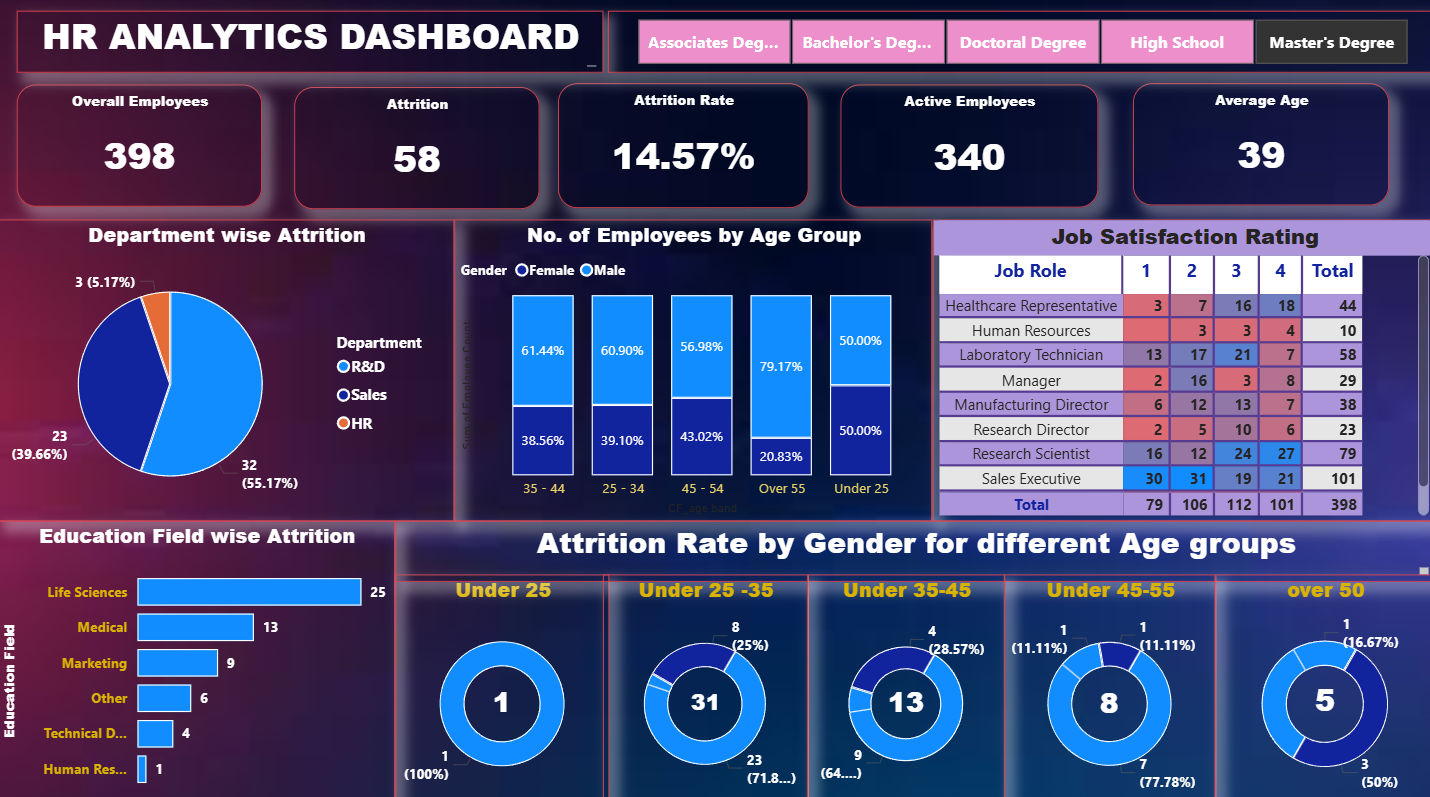

This screenshot's page, from the dashboard's own definition file:
{"tool":"powerbi","page":{"name":"Page 1","canvas":[1280,720],"ordinal":0},"visuals":[{"type":"card","title":"Overall Employees","fields":{"Values":["Sum(Table_1.Employee Count)"]},"box":[16.9,78.4,218.4,108.6],"z":0},{"type":"card","title":"Attrition","fields":{"Values":["Sum(Table_1.Attrition Count)"]},"box":[264.2,79.6,218.4,108.6],"z":1000},{"type":"card","title":"Attrition Rate ","fields":{"Values":["Table_1.Attrition Rate"]},"box":[498.3,77.2,223.2,111],"z":2000},{"type":"card","title":"Active Employees","fields":{"Values":["Table_1.Active Employees"]},"box":[750.4,78.4,229.2,109.8],"z":3000},{"type":"card","title":"Average Age","fields":{"Values":["Avg(Table_1.Age)"]},"box":[1011,77.2,228,108.6],"z":4000},{"type":"pieChart","title":"Department wise Attrition","fields":{"Category":["Table_1.Department"],"Y":["Sum(Table_1.Attrition Count)"]},"box":[0,197.9,406.6,269],"z":5000},{"type":"hundredPercentStackedColumnChart","title":"No. of Employees by Age Group","fields":{"Category":["Table_1.CF_age band"],"Y":["Sum(Table_1.Employee Count)"],"Series":["Table_1.Gender"]},"box":[406.6,197.9,425.9,269],"z":6000},{"type":"pivotTable","title":"Job Satisfaction Rating","fields":{"Rows":["Table_1.Job Role"],"Columns":["Table_1.Job Satisfaction"],"Values":["Sum(Table_1.Employee Count)"]},"box":[832.4,197.9,447.6,269],"z":7000},{"type":"barChart","title":"Education Field wise Attrition","fields":{"Category":["Table_1.Education Field"],"Y":["Sum(Table_1.Attrition Count)"]},"box":[0,466.9,353.5,253.4],"z":8000},{"type":"donutChart","title":"Under 25","fields":{"Category":["Table_1.Gender"],"Y":["Sum(Table_1.Attrition Count)"],"Series":["Table_1.CF_age band"]},"box":[353.5,513.9,190.6,206.3],"z":9000},{"type":"textbox","title":"Attrition Rate by Gender for different Age groups","box":[353.5,466.9,926.5,54.3],"z":10000},{"type":"donutChart","title":"Under 35-45","fields":{"Category":["Table_1.Gender"],"Y":["Sum(Table_1.Attrition Count)"],"Series":["Table_1.CF_age band"]},"box":[721.5,513.9,174.9,206.3],"z":11000},{"type":"donutChart","title":"Under 25 -35","fields":{"Category":["Table_1.Gender"],"Y":["Sum(Table_1.Attrition Count)"],"Series":["Table_1.CF_age band"]},"box":[539.3,513.9,182.2,206.3],"z":12000},{"type":"donutChart","title":"over 50","fields":{"Category":["Table_1.Gender"],"Y":["Sum(Table_1.Attrition Count)"],"Series":["Table_1.CF_age band"]},"box":[1084.6,513.9,195.4,206.3],"z":13000},{"type":"donutChart","title":"Under 45-55","fields":{"Category":["Table_1.Gender"],"Y":["Sum(Table_1.Attrition Count)"],"Series":["Table_1.CF_age band"]},"box":[896.4,513.9,188.2,206.3],"z":14000},{"type":"card","fields":{"Values":["Sum(Table_1.Attrition Count)"]},"box":[417.4,599.6,62.7,57.9],"z":15000},{"type":"card","fields":{"Values":["Sum(Table_1.Attrition Count)"]},"box":[596,599.6,70,59.1],"z":16000},{"type":"card","fields":{"Values":["Sum(Table_1.Attrition Count)"]},"box":[951.9,593.6,76,72.4],"z":17000},{"type":"card","fields":{"Values":["Sum(Table_1.Attrition Count)"]},"box":[1149.7,593.6,63.9,67.6],"z":18000},{"type":"card","fields":{"Values":["Sum(Table_1.Attrition Count)"]},"box":[764.9,610.5,88.1,37.4],"z":19000},{"type":"textbox","title":"HR ANALYTICS DASHBOARD","box":[16.9,12.1,522.4,55.5],"z":20000},{"type":"slicer","fields":{"Values":["Table_1.Education"]},"box":[542.9,12.1,737.1,55.5],"z":21000}]}

Visuals, with their boxes in screenshot pixels (x1, y1, x2, y2), scaled from the page's 1280x720 canvas onto the 1430x797 screenshot:
"Overall Employees" card: Rect(19, 87, 263, 207)
"Attrition" card: Rect(295, 88, 539, 208)
"Attrition Rate " card: Rect(557, 85, 806, 208)
"Active Employees" card: Rect(838, 87, 1094, 208)
"Average Age" card: Rect(1129, 85, 1384, 206)
"Department wise Attrition" pieChart: Rect(0, 219, 454, 517)
"No. of Employees by Age Group" hundredPercentStackedColumnChart: Rect(454, 219, 930, 517)
"Job Satisfaction Rating" pivotTable: Rect(930, 219, 1429, 517)
"Education Field wise Attrition" barChart: Rect(0, 517, 395, 796)
"Under 25" donutChart: Rect(395, 569, 608, 796)
"Attrition Rate by Gender for different Age groups" textbox: Rect(395, 517, 1429, 577)
"Under 35-45" donutChart: Rect(806, 569, 1001, 796)
"Under 25 -35" donutChart: Rect(602, 569, 806, 796)
"over 50" donutChart: Rect(1212, 569, 1429, 796)
"Under 45-55" donutChart: Rect(1001, 569, 1212, 796)
card - Sum(Table_1.Attrition Count): Rect(466, 664, 536, 728)
card - Sum(Table_1.Attrition Count): Rect(666, 664, 744, 729)
card - Sum(Table_1.Attrition Count): Rect(1063, 657, 1148, 737)
card - Sum(Table_1.Attrition Count): Rect(1284, 657, 1356, 732)
card - Sum(Table_1.Attrition Count): Rect(855, 676, 953, 717)
"HR ANALYTICS DASHBOARD" textbox: Rect(19, 13, 602, 75)
slicer - Table_1.Education: Rect(607, 13, 1429, 75)
